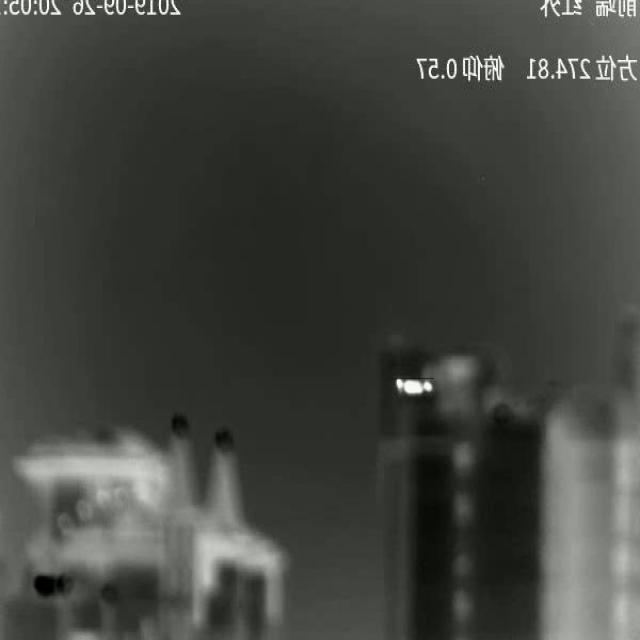drone: (396, 378, 433, 395)
